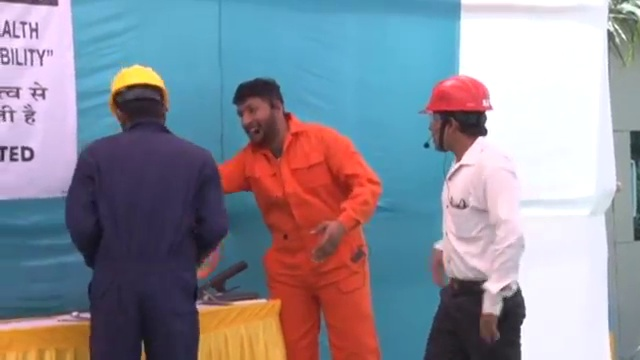helmet: (420, 74, 498, 116), (107, 63, 170, 112)
helmet_off: (230, 77, 294, 145)
helmet_on: (418, 73, 499, 155), (106, 63, 171, 132)
person: (211, 78, 382, 360), (68, 62, 229, 360), (416, 70, 530, 360)
